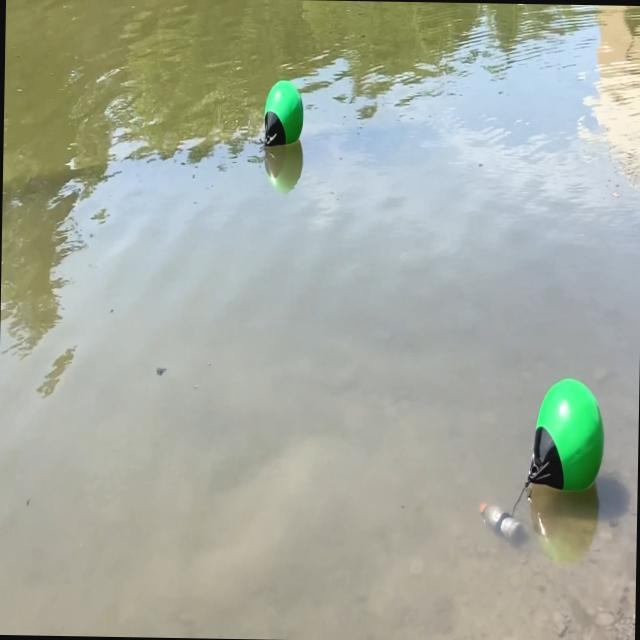buoy: (524, 374, 608, 498), (260, 76, 306, 151)
